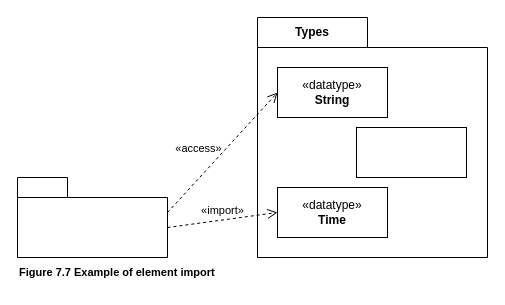
Some shapes in this 505 by 305 pixel diagram are drawn without their labels. The centre of each missing label's shape, as x and y in pixels:
"Program" belongs at point (92, 217).
"«datatype» Integer" belongs at point (411, 152).
